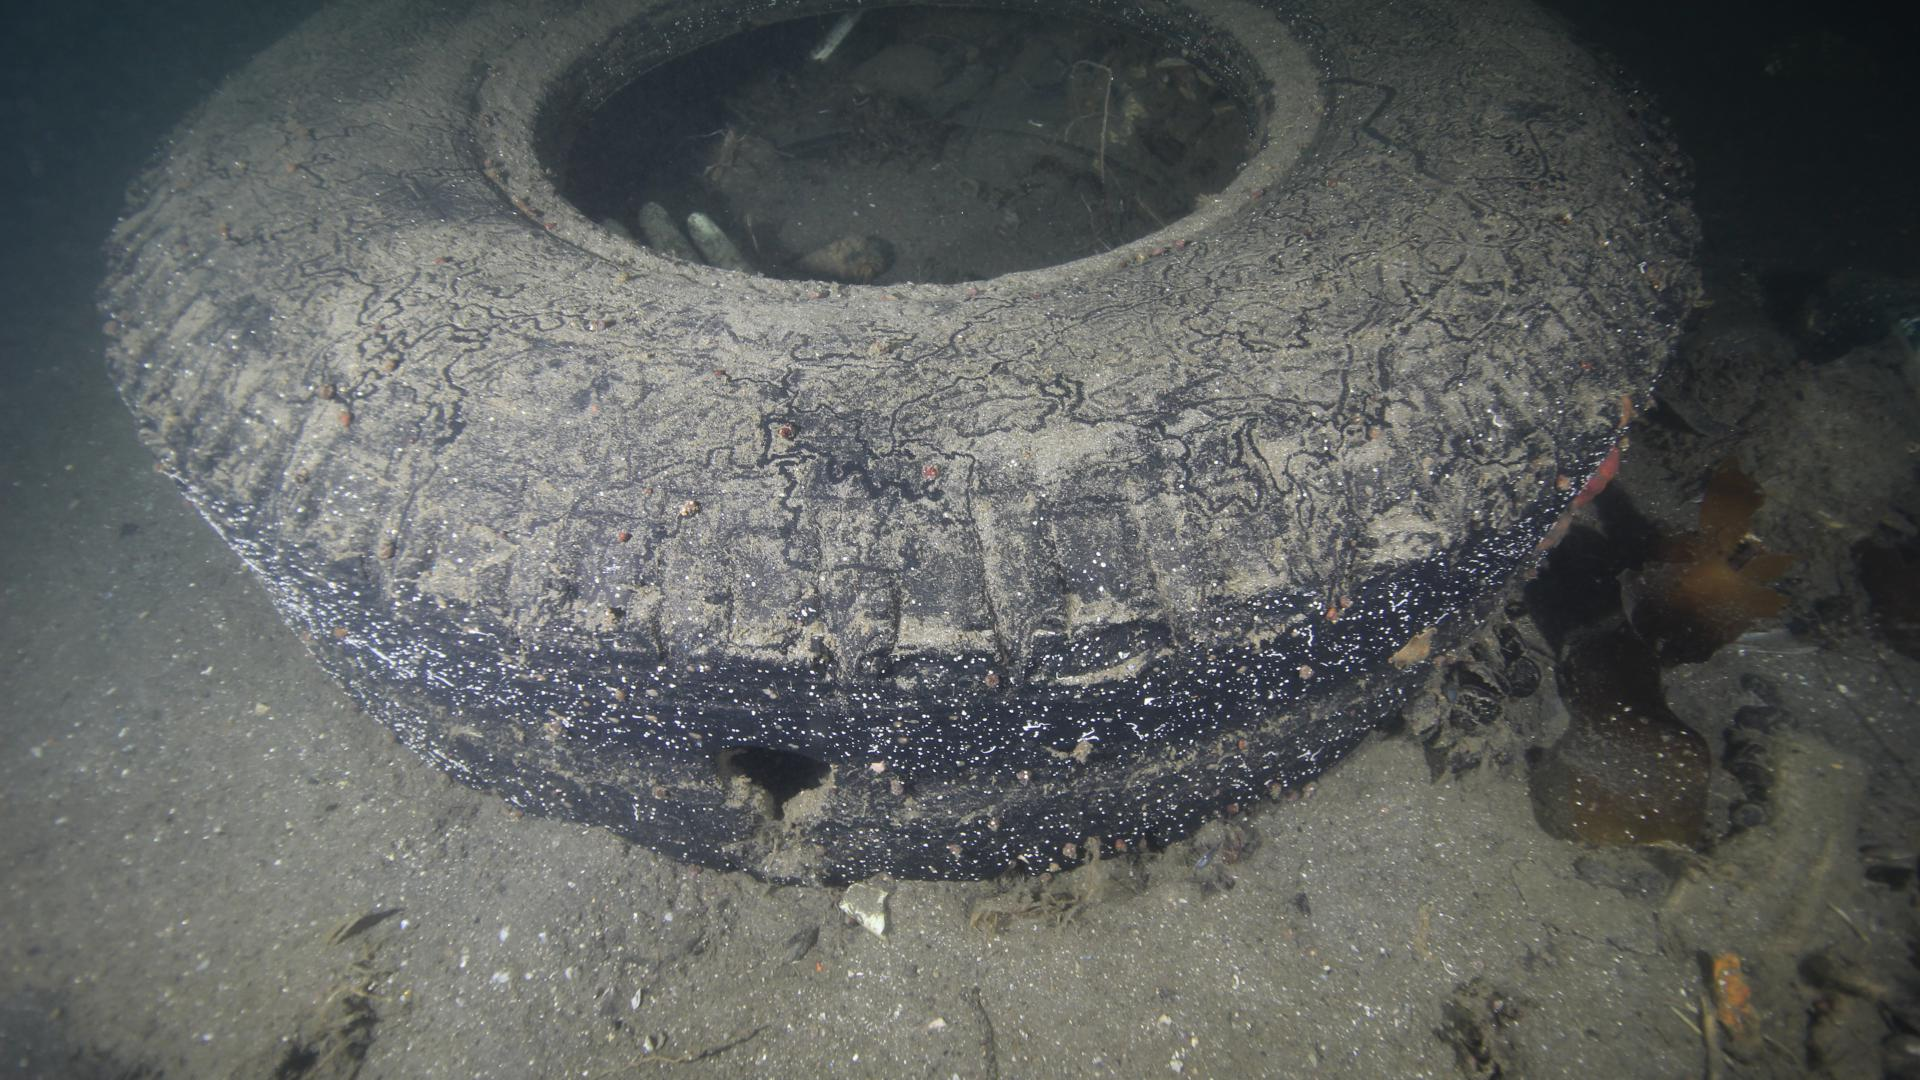tire: (102, 15, 1704, 886)
